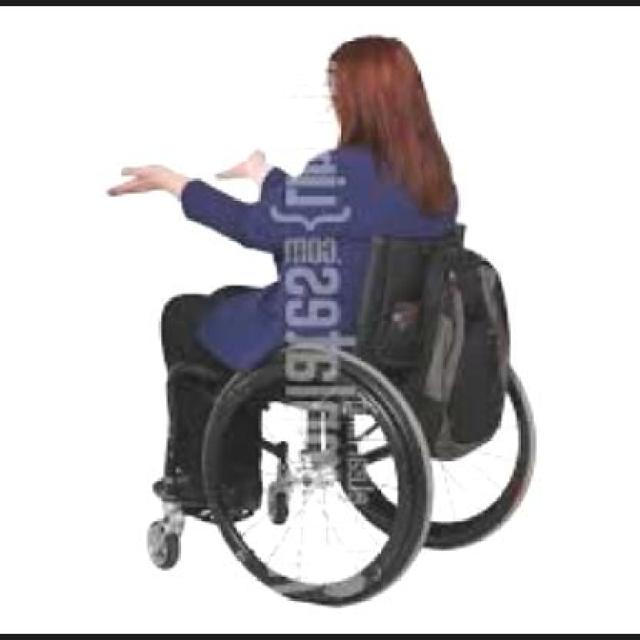wheelchairs: (161, 229, 522, 611)
